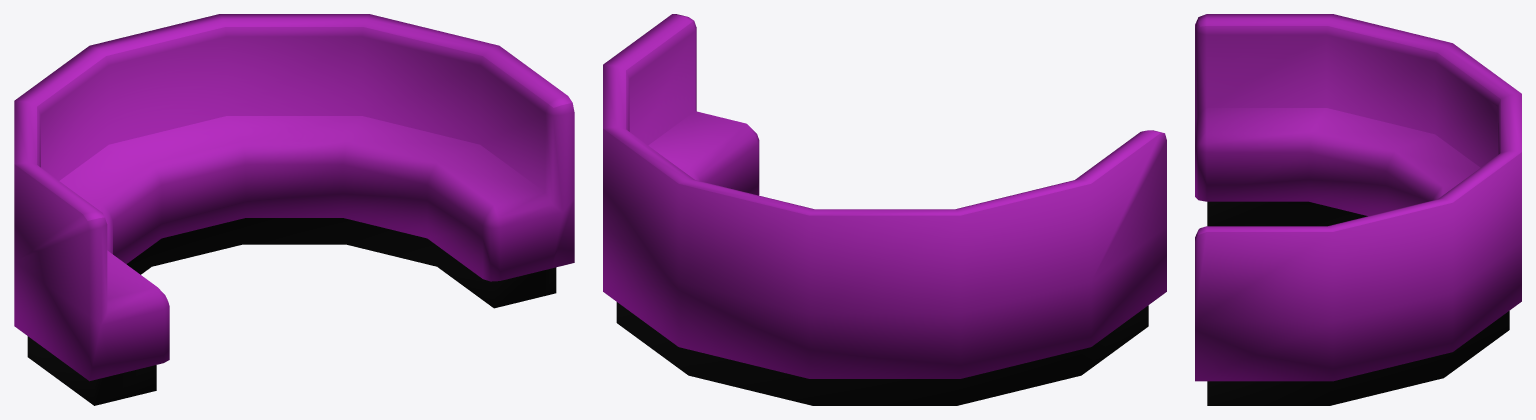
File: Nightclub_Booth.fbx
3 views of the same model, side by side, from view 1: azimuth 30°, elevation 25°; view 2: azimuth 150°, elevation 25°; view 3: azimuth 270°, elevation 25° (orthographic). The views are drawn at different scales.
Parts seen in each view (by area): view 1: Circle.003; view 2: Circle.003; view 3: Circle.003.
Boxes of the visible parts, x1,y1,x2,y2 form: Circle.003: (14,14,574,405); Circle.003: (603,14,1166,405); Circle.003: (1195,14,1521,405).
Size of the model in its own units: 391 by 150 by 248.
